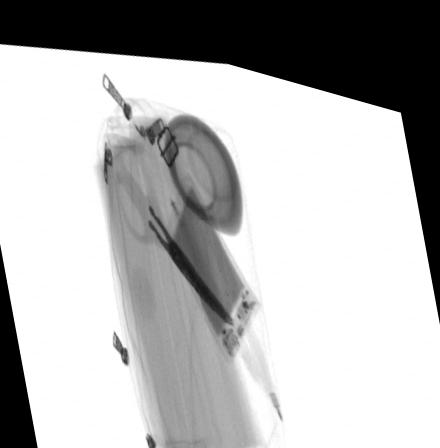Powerbank: (158, 157, 260, 353)
Scissors: (112, 128, 234, 316)
